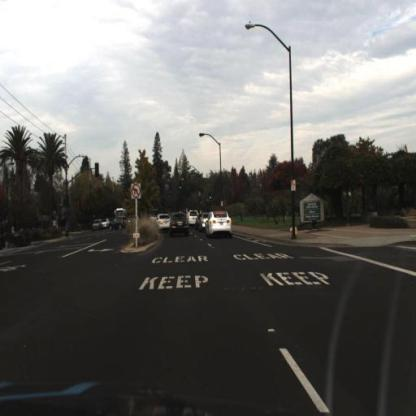car: (207, 209, 232, 236), (168, 214, 192, 237), (196, 210, 213, 234), (154, 212, 172, 234), (108, 216, 129, 233), (107, 218, 130, 232), (189, 209, 201, 231), (158, 216, 170, 229)
pedestrian: (65, 218, 70, 237)
truck: (111, 207, 129, 228), (115, 207, 127, 230)
